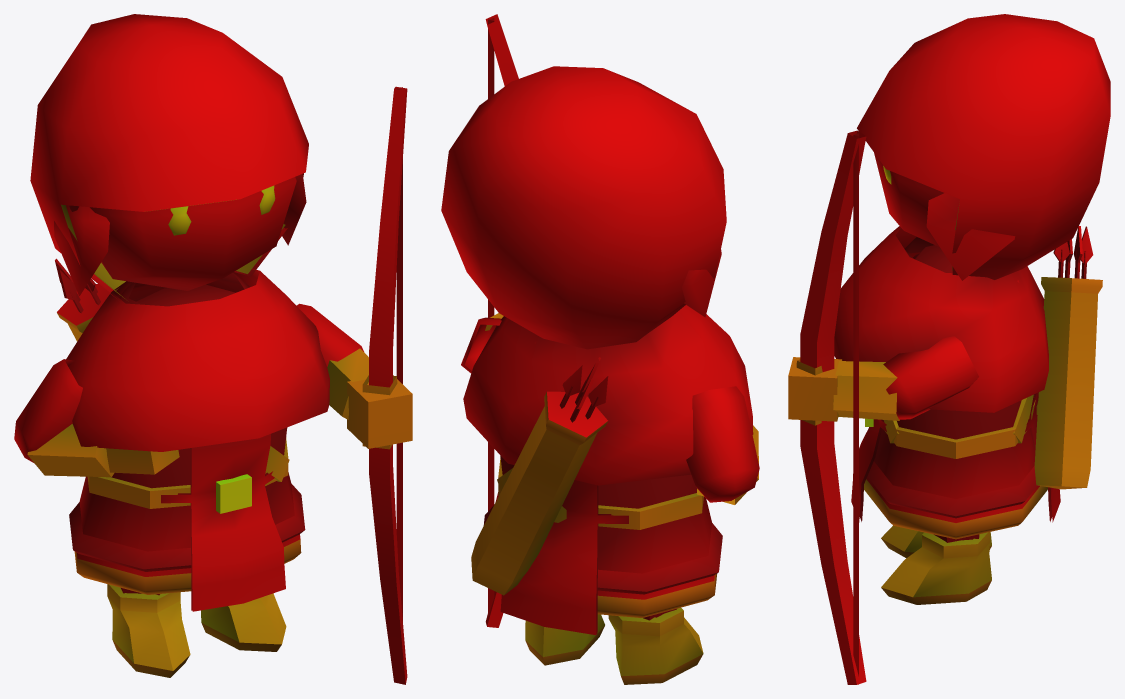
The model's file is Archer_LOD1.glb.
3 views of the same model, side by side, from view 1: azimuth 30°, elevation 25°; view 2: azimuth 150°, elevation 25°; view 3: azimuth 270°, elevation 25° (orthographic). The views are drawn at different scales.
Visible parts, largest first — view 1: Archer_LOD1; view 2: Archer_LOD1; view 3: Archer_LOD1.
Part boxes in pixels (bbox=[...]): Archer_LOD1: bbox=[14, 14, 412, 684]; Archer_LOD1: bbox=[441, 14, 759, 684]; Archer_LOD1: bbox=[788, 14, 1110, 684].
Size of the model in its own units: 0.4925 by 0.9156 by 0.4582.
